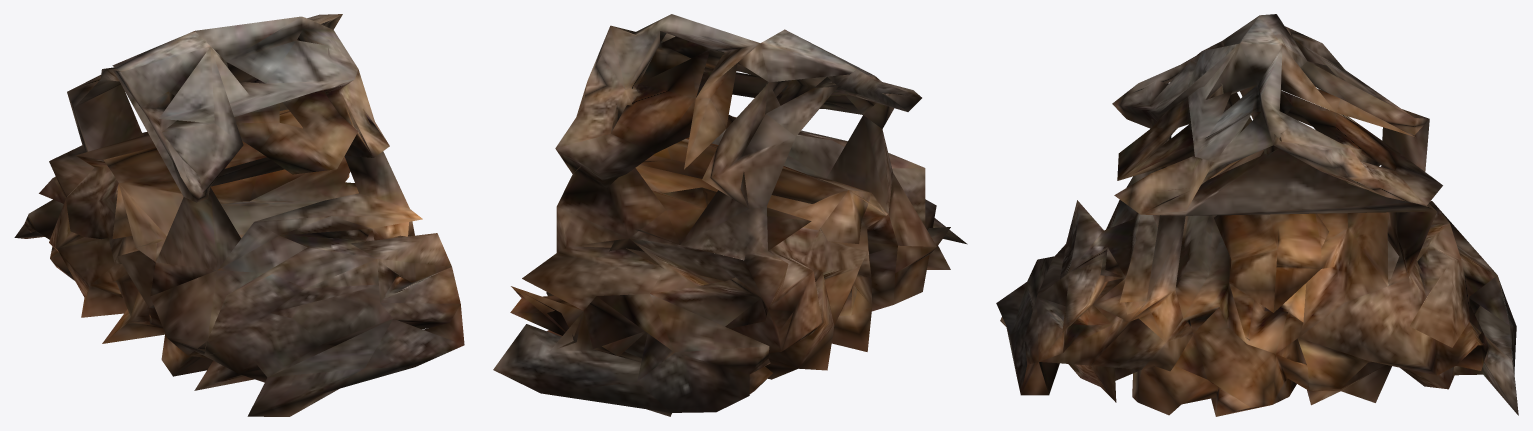
Rendered from e_woodpile.glb.
3 views of the same model, side by side, from view 1: azimuth 30°, elevation 25°; view 2: azimuth 150°, elevation 25°; view 3: azimuth 270°, elevation 25° (orthographic). The views are drawn at different scales.
Parts seen in each view (by area): view 1: tripo_node_7cb9e557-9b66-4daa-81ae-be3115951e41; view 2: tripo_node_7cb9e557-9b66-4daa-81ae-be3115951e41; view 3: tripo_node_7cb9e557-9b66-4daa-81ae-be3115951e41.
Boxes of the visible parts, x1,y1,x2,y2 form: tripo_node_7cb9e557-9b66-4daa-81ae-be3115951e41: (14,14,464,416); tripo_node_7cb9e557-9b66-4daa-81ae-be3115951e41: (493,14,967,416); tripo_node_7cb9e557-9b66-4daa-81ae-be3115951e41: (996,14,1518,416).
Size of the model in its own units: 0.6025 by 0.65 by 1.
1 material, 1 textured.
